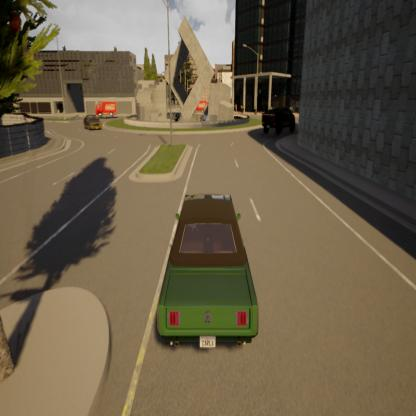Cars: (154, 172, 266, 368), (258, 99, 298, 143), (79, 107, 104, 135)
